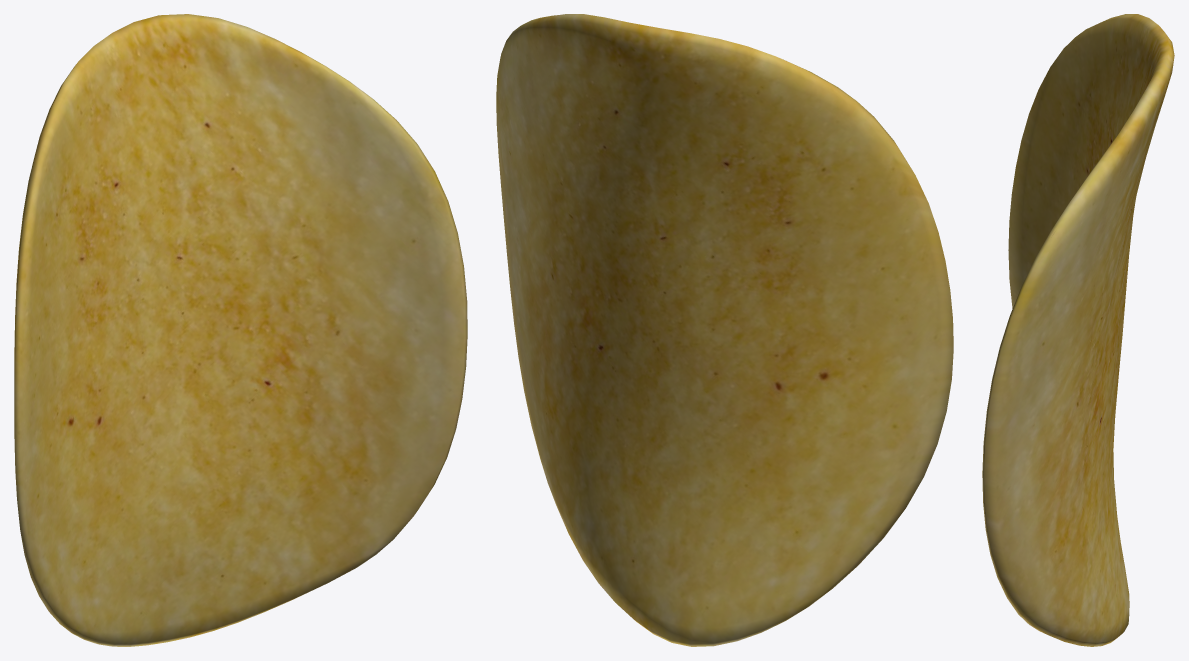
Rendered from chips.glb.
3 renders of one model, left to right at view 1: azimuth 30°, elevation 25°; view 2: azimuth 150°, elevation 25°; view 3: azimuth 270°, elevation 25°, orthographic. The views are drawn at different scales.
Visible parts, largest first — view 1: chips; view 2: chips; view 3: chips.
Part boxes in pixels (<box>): chips: <box>14,14,467,646</box>; chips: <box>496,14,953,646</box>; chips: <box>982,14,1174,646</box>.
Size of the model in its own units: 197 by 258 by 76.4.
Materials: 1 (1 with a texture image).
